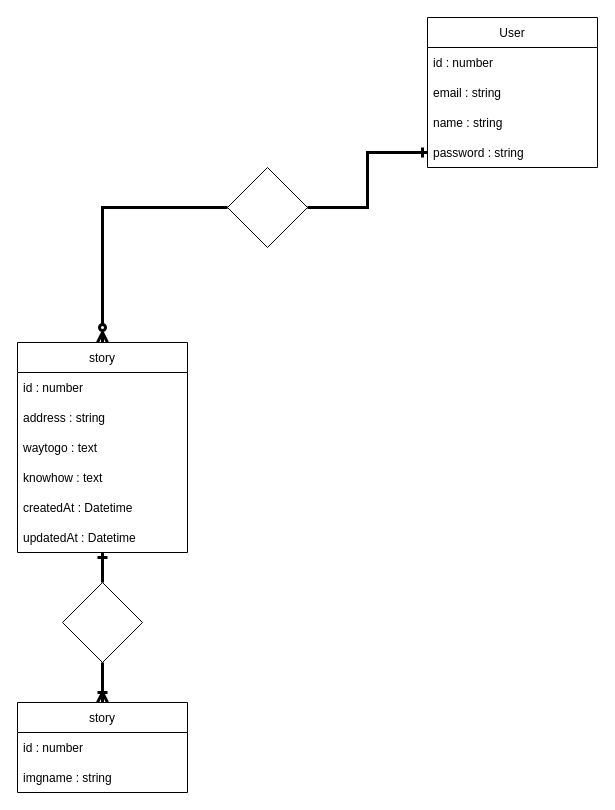
The diagram is 615 pixels wide and 810 high, and some of its shapes have lost their labels. The centre of each missing label's shape, as x and y in pixels:
작성: (x=267, y=207)
종속: (x=102, y=622)
